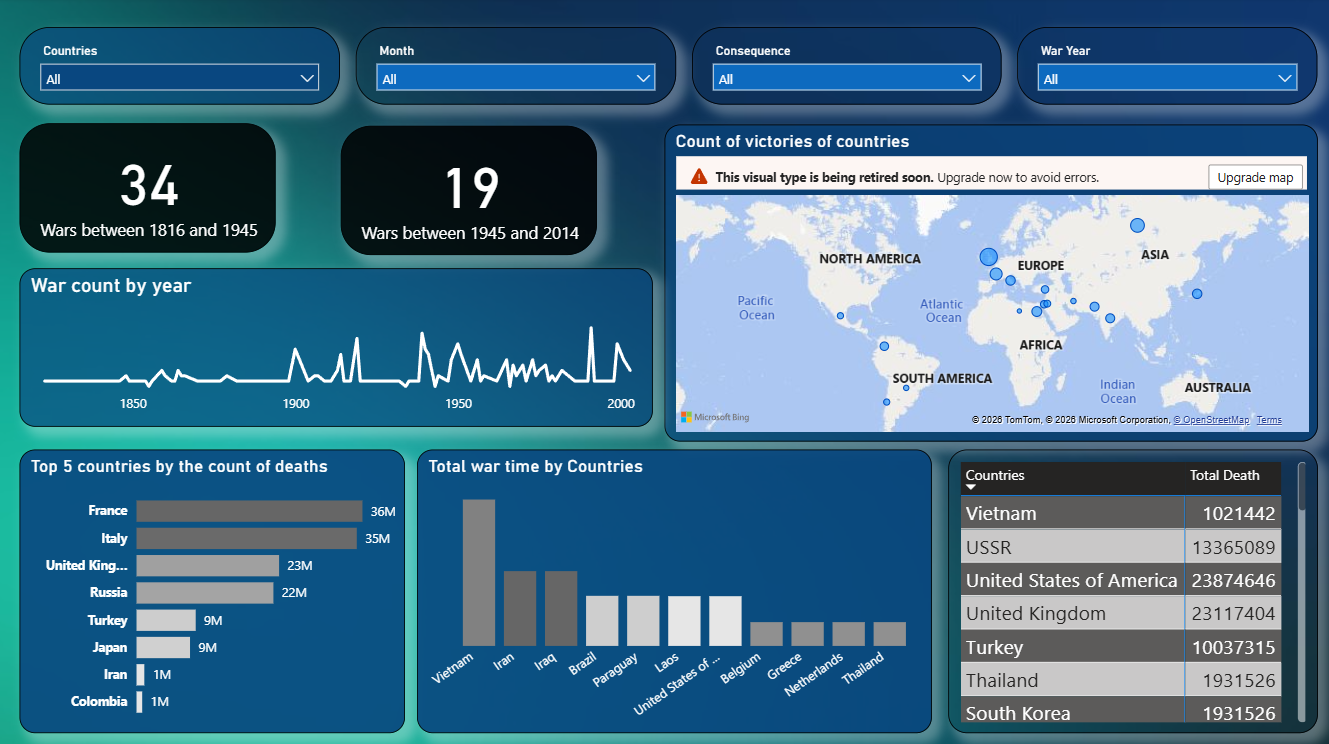

What the dashboard file says about the page in this screenshot:
{"tool":"powerbi","page":{"name":"Differencies","canvas":[1280,720],"ordinal":1},"visuals":[{"type":"map","title":"Count of victories of countries","fields":{"Category":["war_list_1816_2010.STATENAME"],"Size":["CountNonNull(territorial_changes_since_1816-1945.COUNTRY_GAINING)"]},"box":[640,122.6,626.6,304],"z":0},{"type":"slicer","fields":{"Values":["conquest_since_1816-1945.WAR_YEAR"]},"box":[977.6,29.3,288.3,74.6],"z":1000},{"type":"slicer","fields":{"Values":["war_list_1816_2010.StartDate.Variation.Date Hierarchy.Month"]},"box":[343.9,29.3,307.3,74.6],"z":2000},{"type":"slicer","fields":{"Values":["territorial_changes_since_1816-1945.CONSEQUENCE"]},"box":[665.9,29.3,297.1,74.6],"z":3000},{"type":"slicer","fields":{"Values":["war_list_1816_2010.STATENAME"]},"box":[22,29.3,307.3,74.6],"z":4000},{"type":"barChart","title":"Top 5 countries by the count of deaths","fields":{"Y":["Sum(war_list_1816_2010.TOTAL_BATTLE_DEATHS)"],"Category":["conquest_since_1816-1945.COUNTRY_GAINING"]},"box":[21.8,433.4,369.6,272.1],"z":5000},{"type":"columnChart","fields":{"Category":["war_list_1816_2010.STATENAME"],"Y":["Sum(war_list_1816_2010.TOTAL_WAR_TIME)"]},"box":[403.1,433.4,493.9,272.1],"z":6000},{"type":"card","title":"All-out war in 1816","fields":{"Values":["CountNonNull(conquest_since_1816-1945.WAR_YEAR)"]},"box":[22,121.5,245.9,124.4],"z":7000},{"type":"card","title":"All-out war in 1816","fields":{"Values":["CountNonNull(conquest_since_1816-1945.WAR_YEAR)"]},"box":[329.3,122.9,245.9,124.4],"z":8000},{"type":"pivotTable","fields":{"Rows":["war_list_1816_2010.STATENAME"],"Values":["Sum(war_list_1816_2010.TOTAL_BATTLE_DEATHS)"]},"box":[912.1,433.4,354.4,272.1],"z":9000},{"type":"lineChart","title":"War count by year","fields":{"Category":["war_list_1816_2010.StartDate.Variation.Date Hierarchy.Year","war_list_1816_2010.StartDate.Variation.Date Hierarchy.Quarter","war_list_1816_2010.StartDate.Variation.Date Hierarchy.Month","war_list_1816_2010.StartDate.Variation.Date Hierarchy.Day"],"Y":["CountNonNull(war_list_1816_2010.StartDate)"]},"box":[22,260.5,607.3,152.2],"z":10000}]}

Visuals, with their boxes in screenshot pixels (x1, y1, x2, y2), scaled from the page's 1280x720 canvas onto the 1329x744 screenshot:
"Count of victories of countries" map: <region>664, 127, 1315, 441</region>
slicer - conquest_since_1816-1945.WAR_YEAR: <region>1015, 30, 1314, 107</region>
slicer - war_list_1816_2010.StartDate.Variation.Date Hierarchy.Month: <region>357, 30, 676, 107</region>
slicer - territorial_changes_since_1816-1945.CONSEQUENCE: <region>691, 30, 1000, 107</region>
slicer - war_list_1816_2010.STATENAME: <region>23, 30, 342, 107</region>
"Top 5 countries by the count of deaths" barChart: <region>23, 448, 406, 729</region>
columnChart - war_list_1816_2010.STATENAME x Sum(war_list_1816_2010.TOTAL_WAR_TIME): <region>419, 448, 931, 729</region>
"All-out war in 1816" card: <region>23, 126, 278, 254</region>
"All-out war in 1816" card: <region>342, 127, 597, 256</region>
pivotTable - war_list_1816_2010.STATENAME x Sum(war_list_1816_2010.TOTAL_BATTLE_DEATHS): <region>947, 448, 1315, 729</region>
"War count by year" lineChart: <region>23, 269, 653, 426</region>
